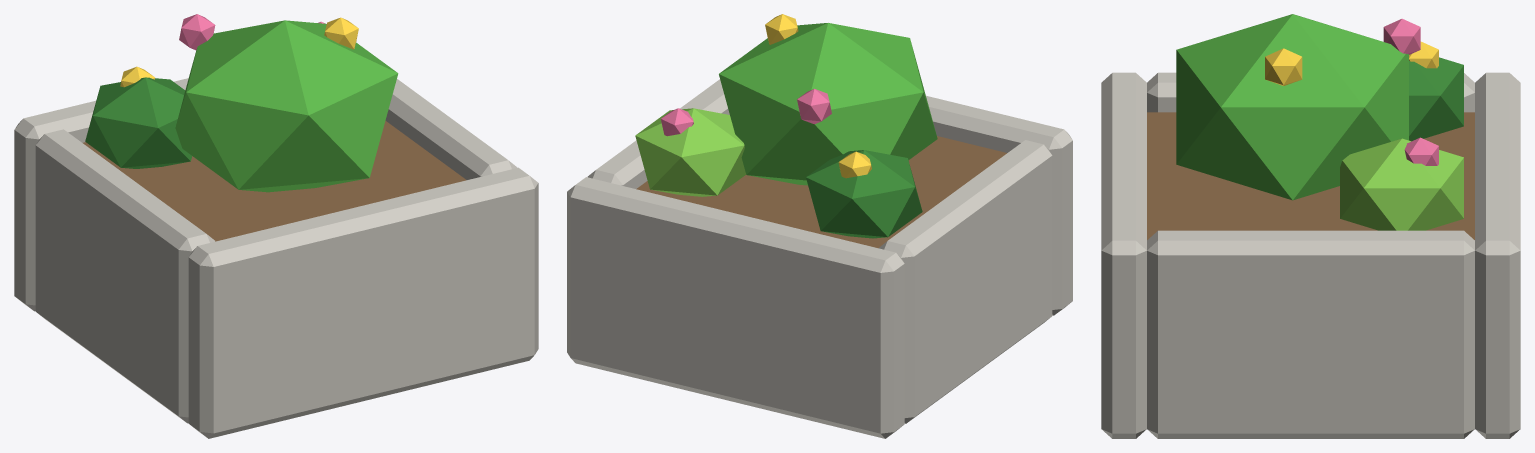
File: kit-cidade-vaso-planta.glb
3 renders of one model, left to right at view 1: azimuth 30°, elevation 25°; view 2: azimuth 150°, elevation 25°; view 3: azimuth 270°, elevation 25°, orthographic. The views are drawn at different scales.
Visible parts, largest first — view 1: corpo; view 2: corpo; view 3: corpo.
Part boxes in pixels (x1,y1,x2,y2): corpo: [14, 14, 538, 438]; corpo: [567, 14, 1072, 438]; corpo: [1101, 14, 1520, 438].
Bounding box in the file's own units: 0.46 × 0.4125 × 0.46.
